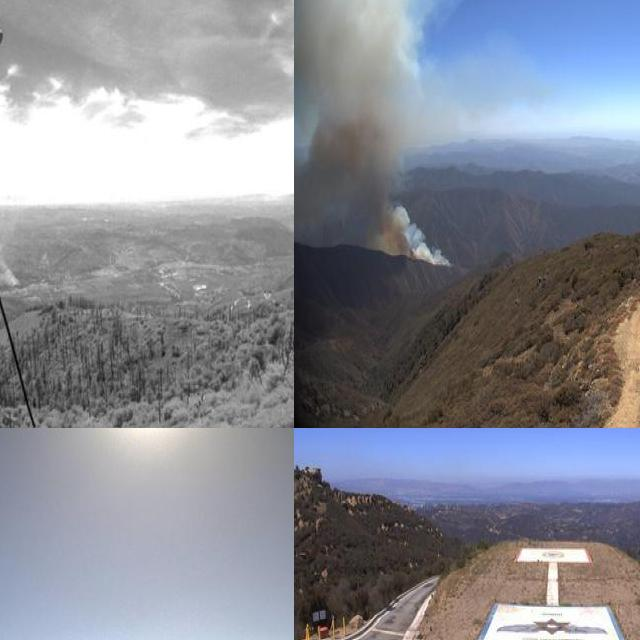smoke: (294, 0, 451, 272), (0, 202, 20, 292)
